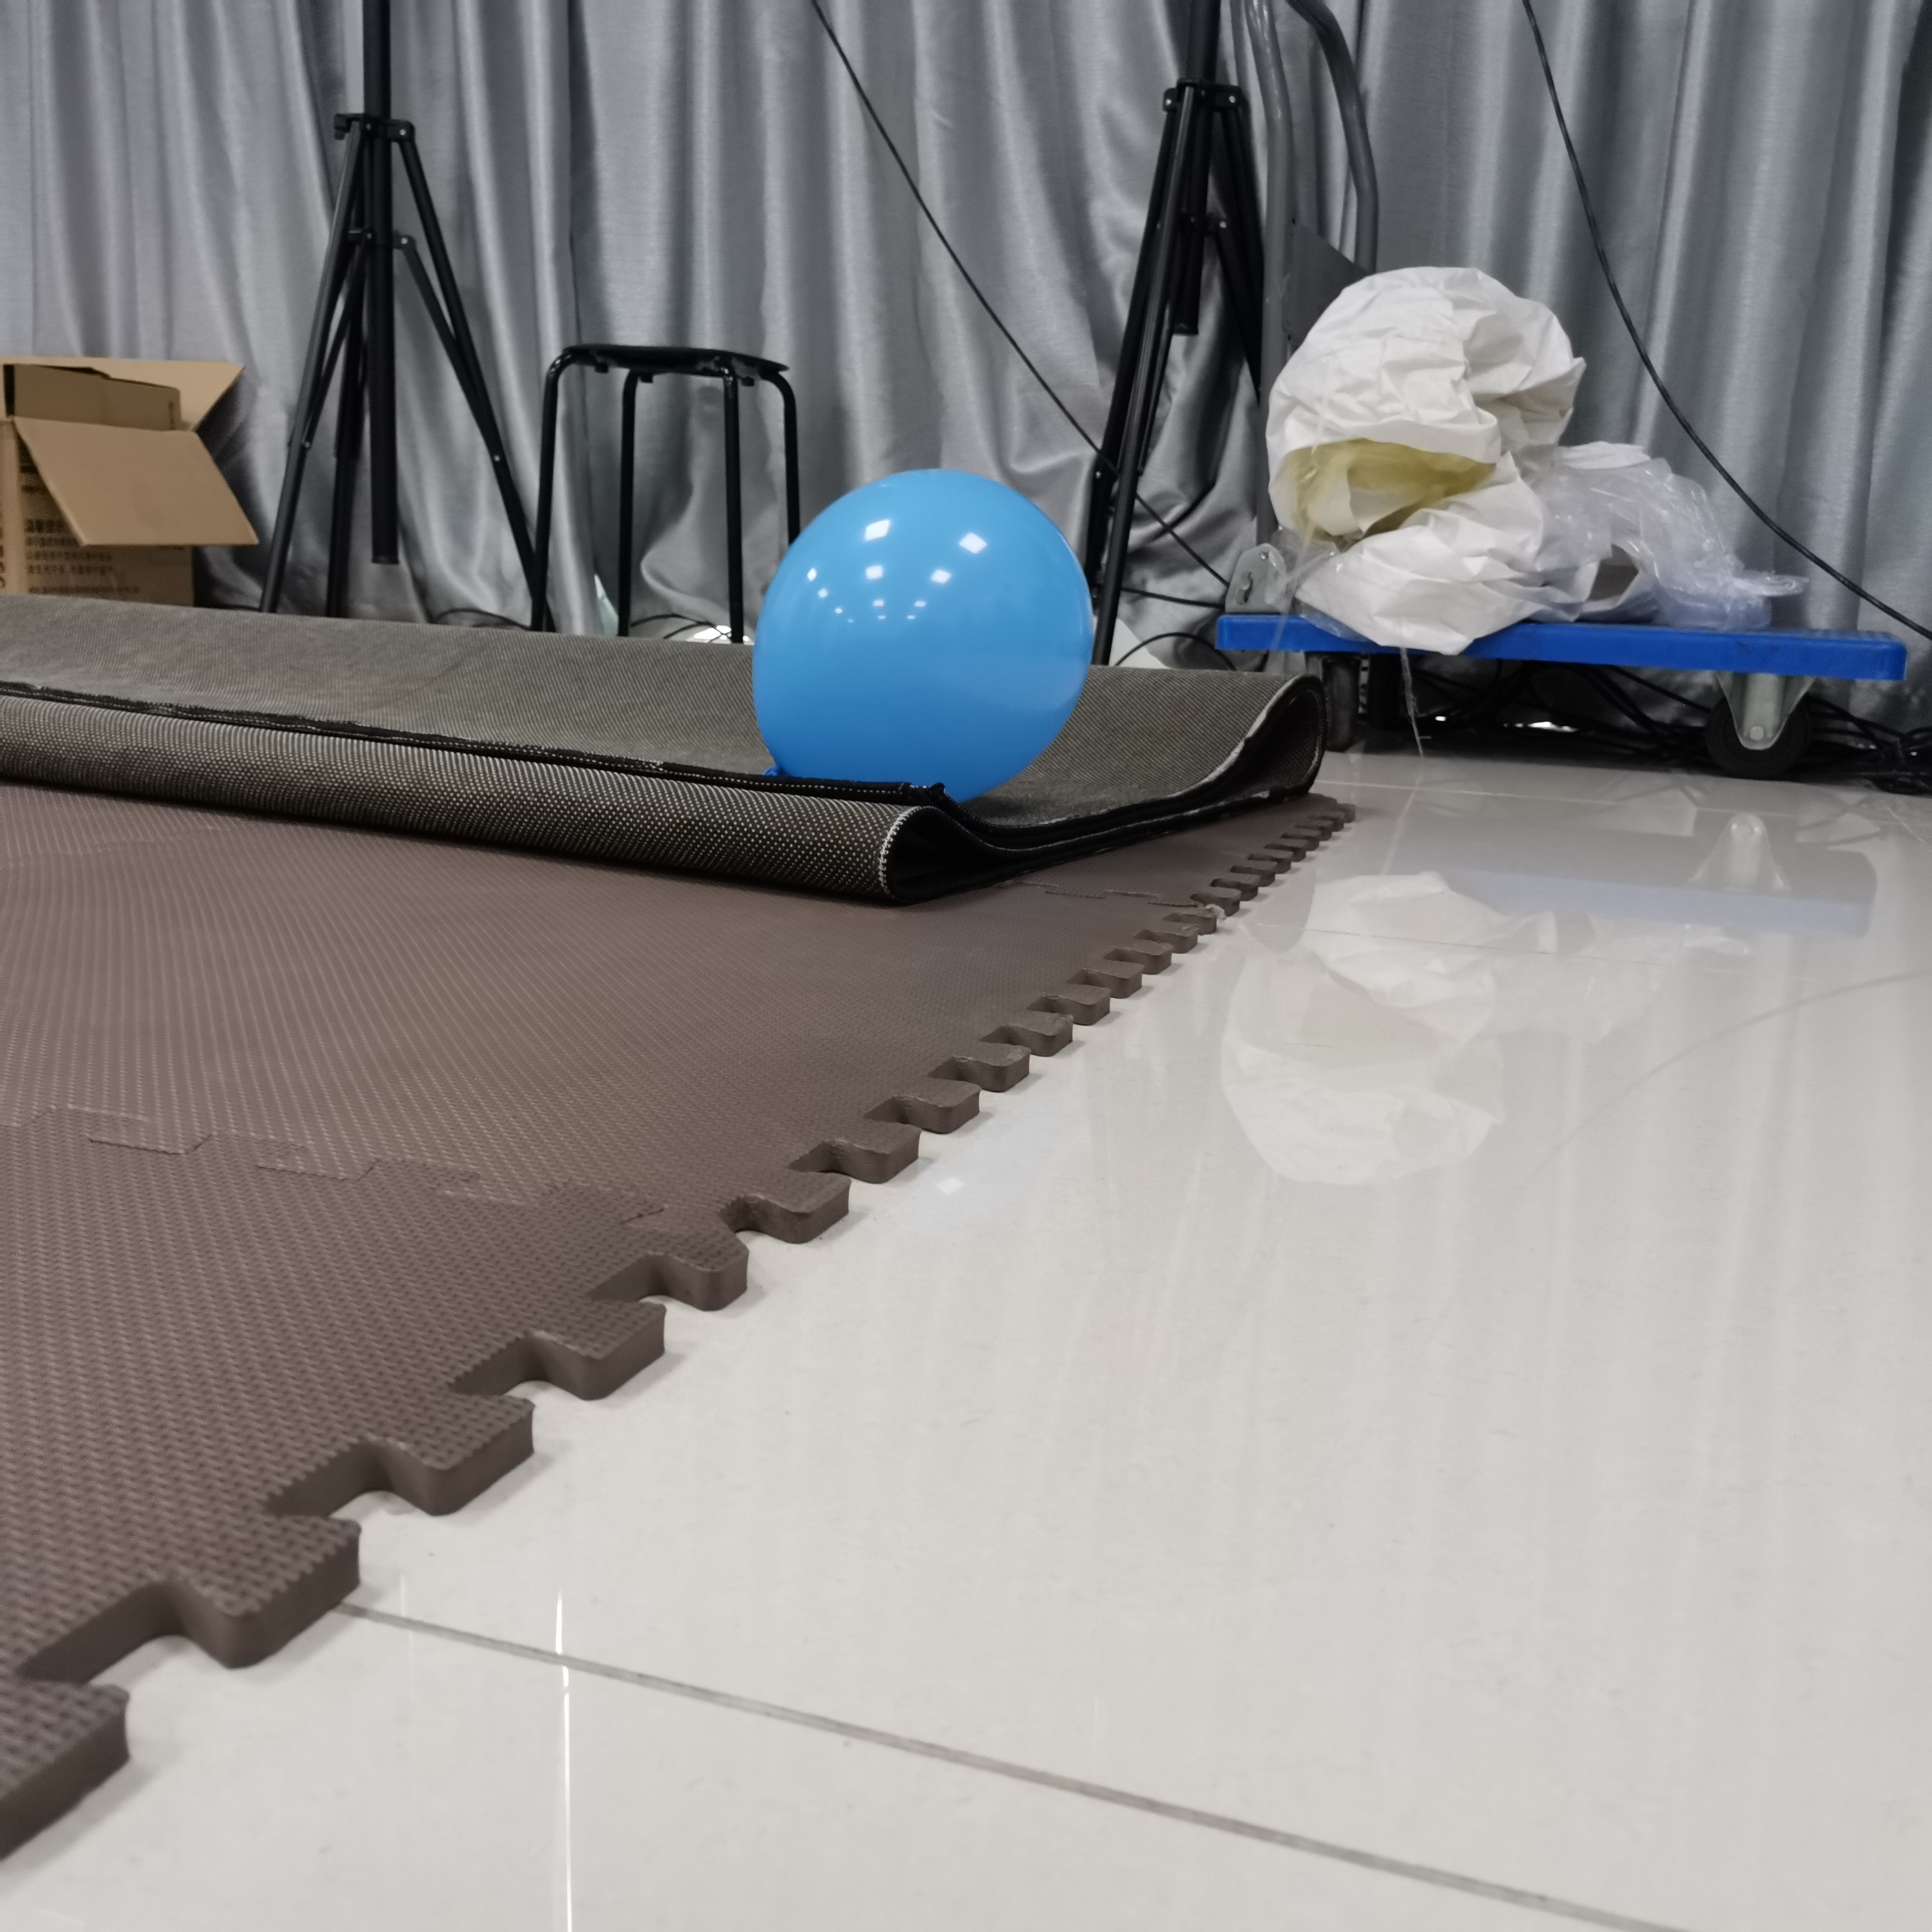balloon: (750, 464, 1093, 796)
